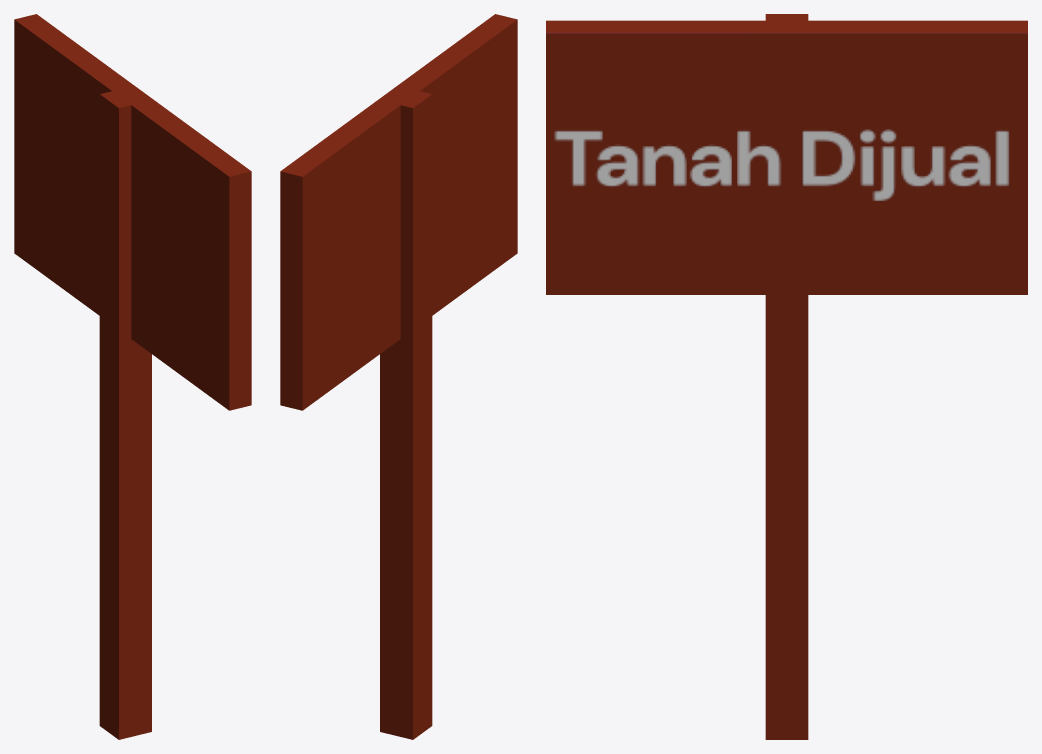
The model's file is PapanTanahDijual.fbx.
3 views of the same model, side by side, from view 1: azimuth 30°, elevation 25°; view 2: azimuth 150°, elevation 25°; view 3: azimuth 270°, elevation 25° (orthographic). The views are drawn at different scales.
Visible parts, largest first — view 1: PapanTanahDijual; view 2: PapanTanahDijual; view 3: PapanTanahDijual.
Part boxes in pixels (x1,y1,x2,y2): PapanTanahDijual: (14, 14, 251, 739); PapanTanahDijual: (280, 14, 517, 739); PapanTanahDijual: (546, 14, 1027, 739).
Bounding box in the file's own units: 4.68 × 81.03 × 50.
